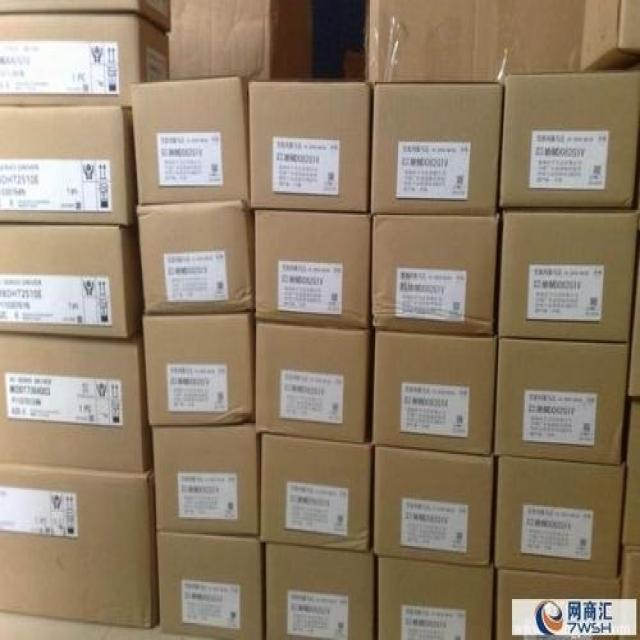box: (0, 463, 157, 628), (0, 333, 150, 471), (500, 70, 639, 207), (499, 208, 637, 341), (371, 80, 502, 215), (494, 340, 628, 464), (0, 224, 142, 340), (1, 106, 137, 227), (0, 14, 169, 109), (247, 84, 371, 212), (131, 75, 250, 207), (495, 457, 625, 577), (372, 331, 495, 456), (372, 215, 499, 336), (374, 445, 493, 567), (257, 323, 370, 442), (255, 210, 370, 326), (138, 201, 255, 314), (260, 435, 372, 553), (142, 312, 255, 427), (168, 0, 314, 82), (154, 423, 257, 534), (157, 534, 262, 640), (266, 541, 376, 638), (378, 558, 495, 640), (497, 570, 618, 640), (580, 0, 640, 70), (628, 259, 640, 394), (622, 466, 640, 544), (620, 550, 640, 599), (627, 404, 640, 466)
